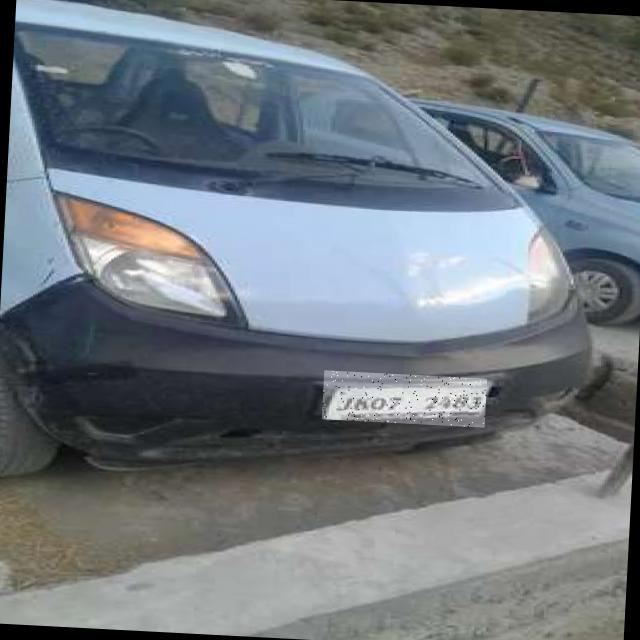Plate: (323, 372, 488, 429)
